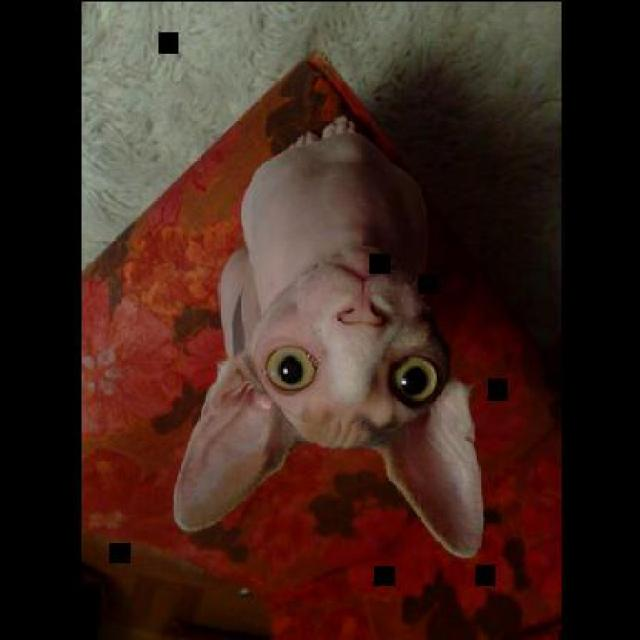unauthorized: (171, 115, 486, 560)
